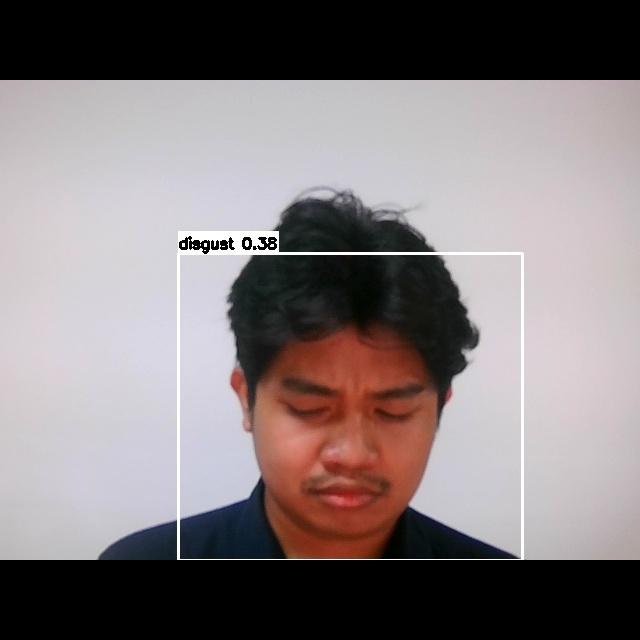Angry: (251, 354, 441, 515)
